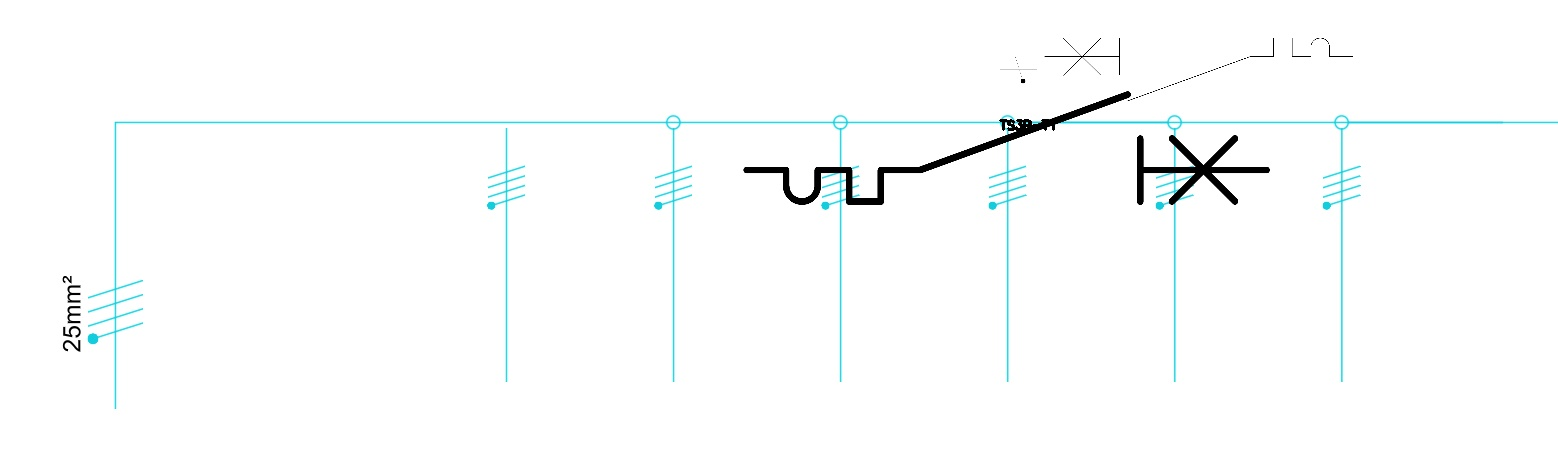interruptor_termomagnetico: (733, 81, 1280, 215), (1036, 30, 1360, 109)
